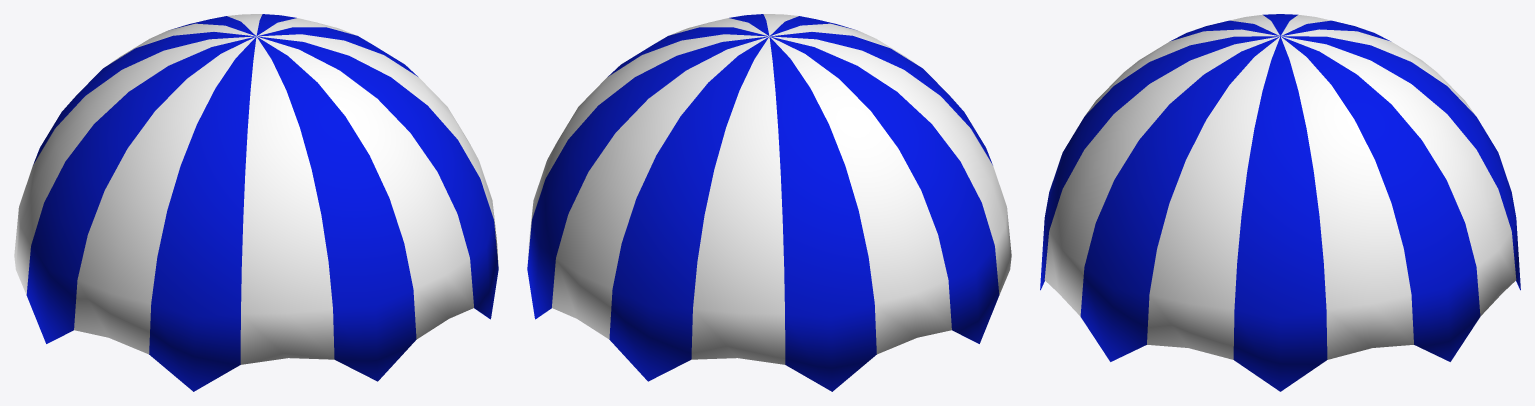
Rendered from paracute.fbx.
3 renders of one model, left to right at view 1: azimuth 30°, elevation 25°; view 2: azimuth 150°, elevation 25°; view 3: azimuth 270°, elevation 25°, orthographic.
Parts seen in each view (by area): view 1: Sphere; view 2: Sphere; view 3: Sphere.
Part boxes in pixels (x1=…): Sphere: x1=14, y1=14, x2=498, y2=391; Sphere: x1=527, y1=14, x2=1011, y2=391; Sphere: x1=1040, y1=14, x2=1520, y2=391.
Size of the model in its own units: 723 by 422 by 723.
